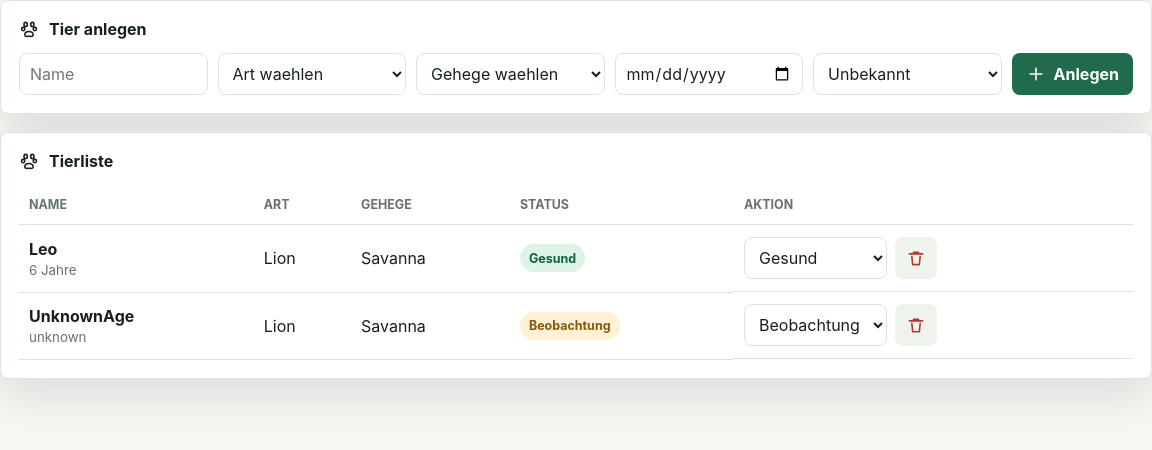
Test: AnimalsView › surfaces an error and does not reload when the API rejects
Type "Leo" into the field with placeholder "Name" at x=113, y=74, box [19, 53, 208, 95]
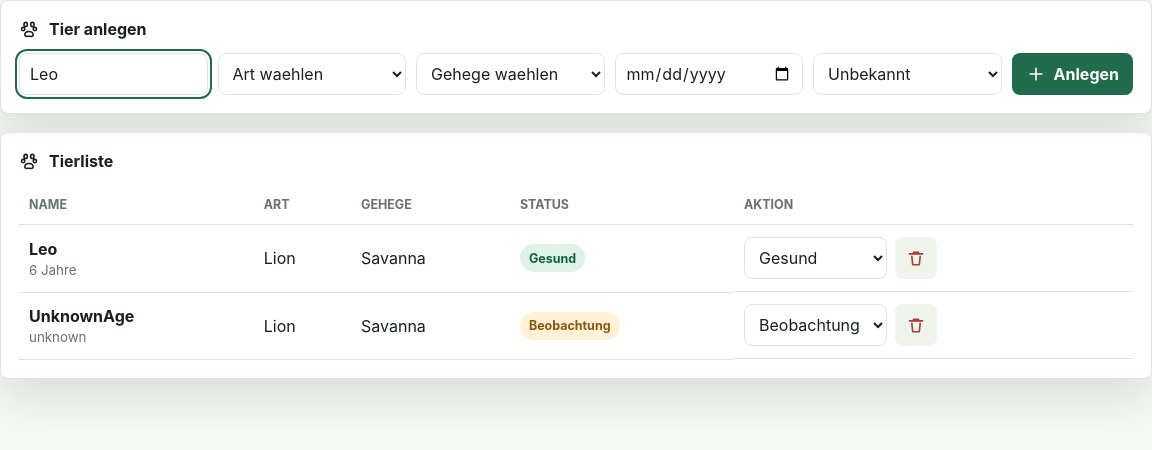
Select "Lion" in the dropdown named "Art" at x=312, y=74, box [218, 53, 406, 95]
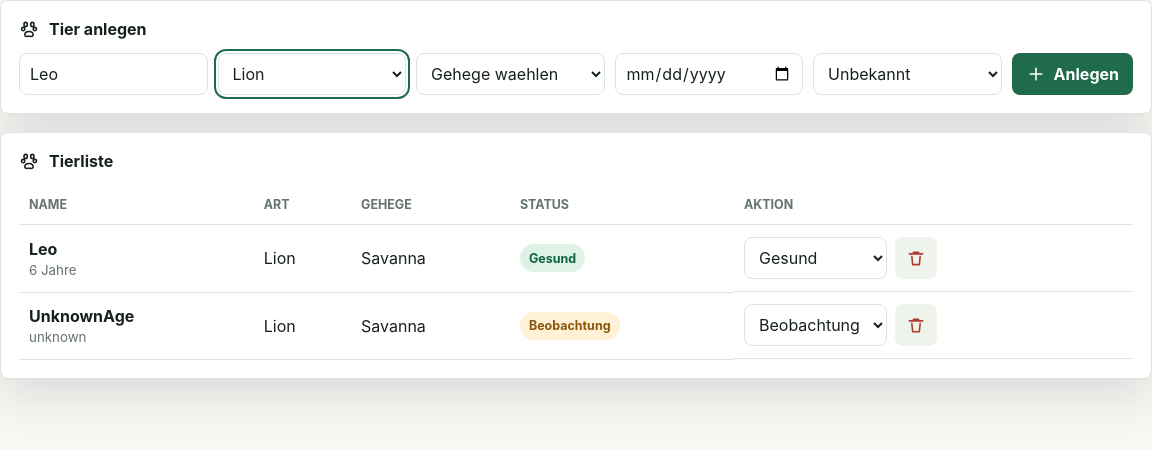
Select "Savanna" in the dropdown named "Gehege" at x=510, y=74, box [416, 53, 604, 95]
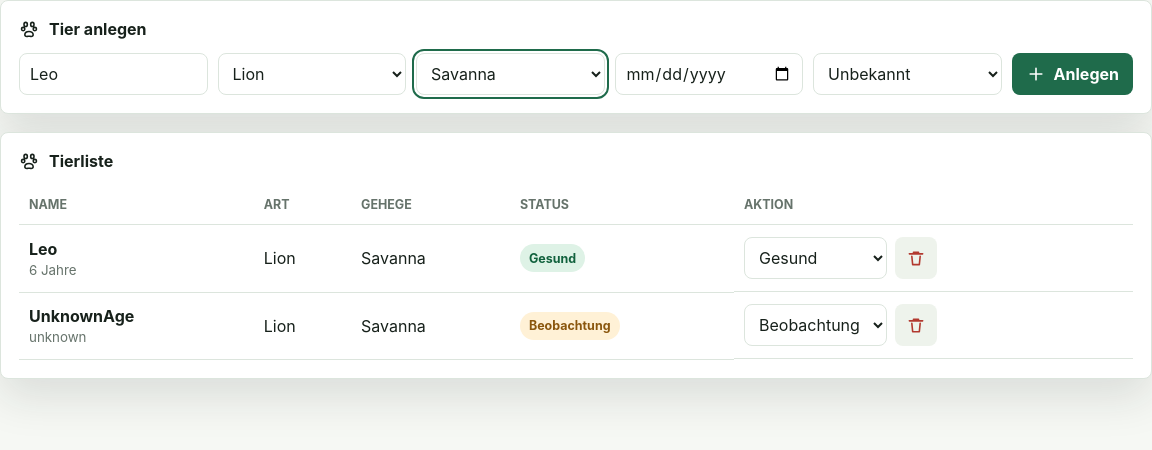
Click the button "Anlegen" at x=1072, y=74, box [1012, 53, 1133, 95]
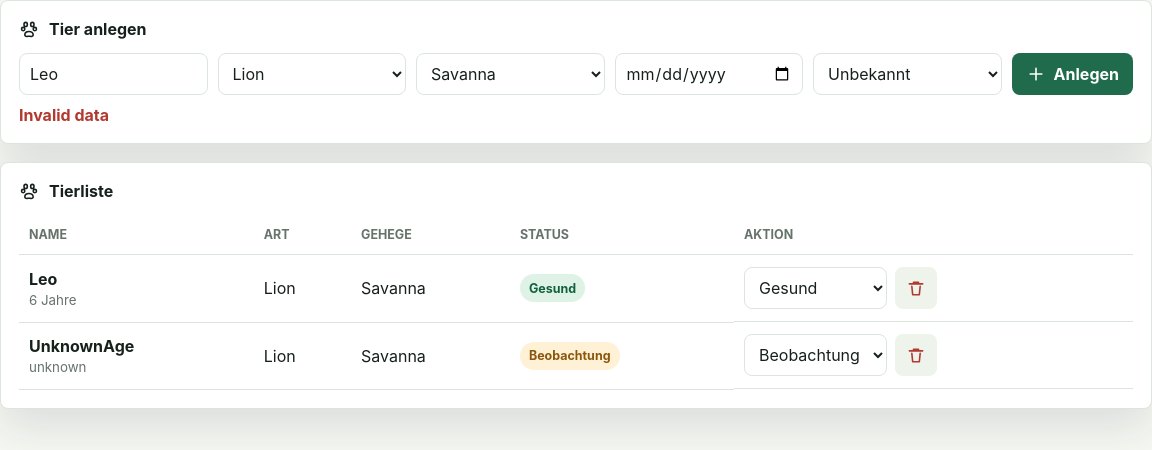
Expected: the text "Invalid data" is shown, [19, 105, 109, 125]
